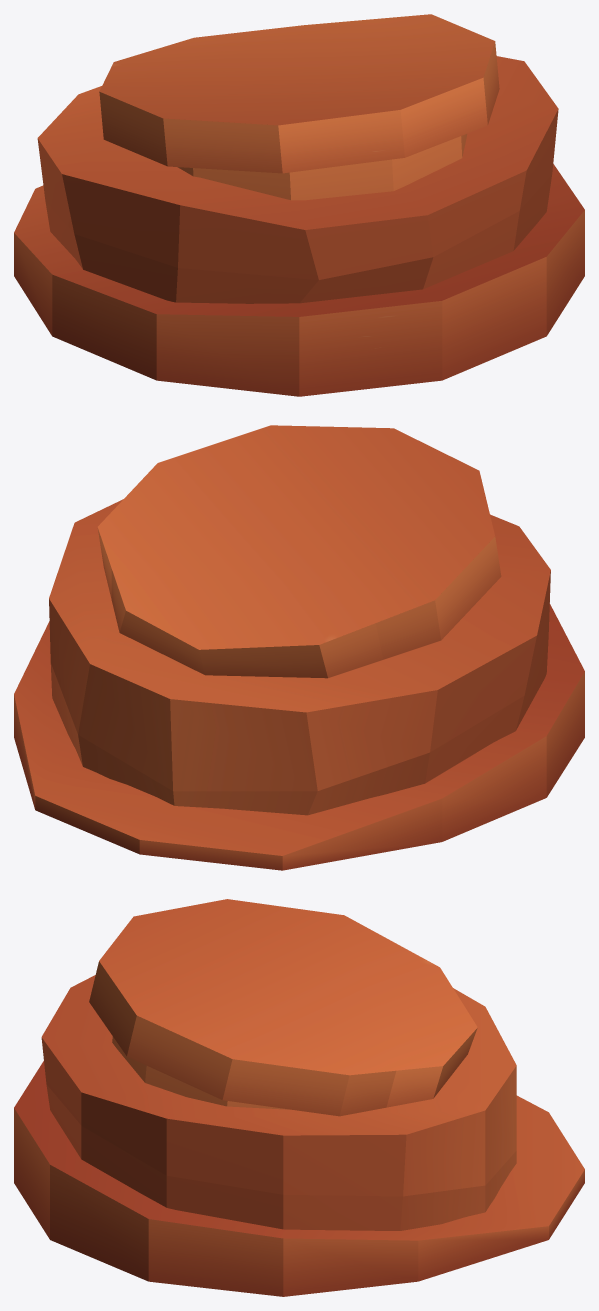
The model's file is PedraModels1.fbx.
The picture shows the model from 3 angles, top to bottom: view 1: azimuth 30°, elevation 25°; view 2: azimuth 150°, elevation 25°; view 3: azimuth 270°, elevation 25°; orthographic projection. The views are drawn at different scales.
Visible parts, largest first — view 1: Cylinder.001; view 2: Cylinder.001; view 3: Cylinder.001.
Boxes of the visible parts, x1,y1,x2,y2 form: Cylinder.001: [14, 14, 584, 396]; Cylinder.001: [14, 425, 584, 870]; Cylinder.001: [14, 899, 584, 1296].
Bounding box in the file's own units: 877 × 401 × 929.
Materials: 1 (1 with a texture image).
